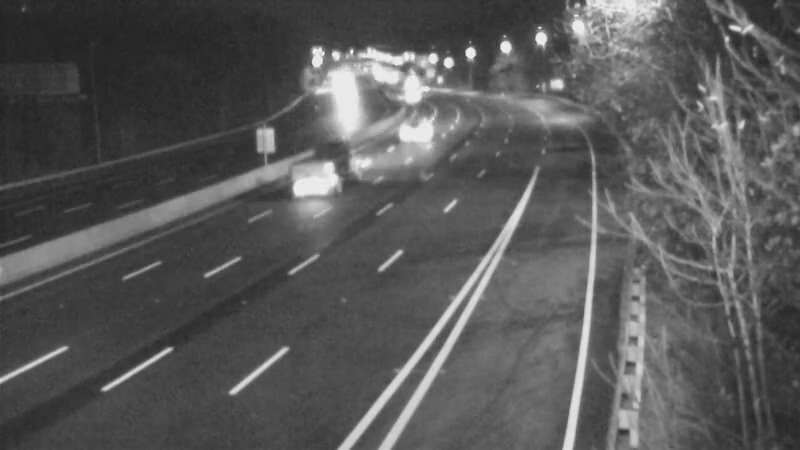vehicle: (288, 130, 368, 210), (384, 72, 434, 122), (392, 104, 442, 154)
